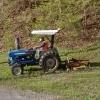Tractor: (8, 19, 63, 76)
